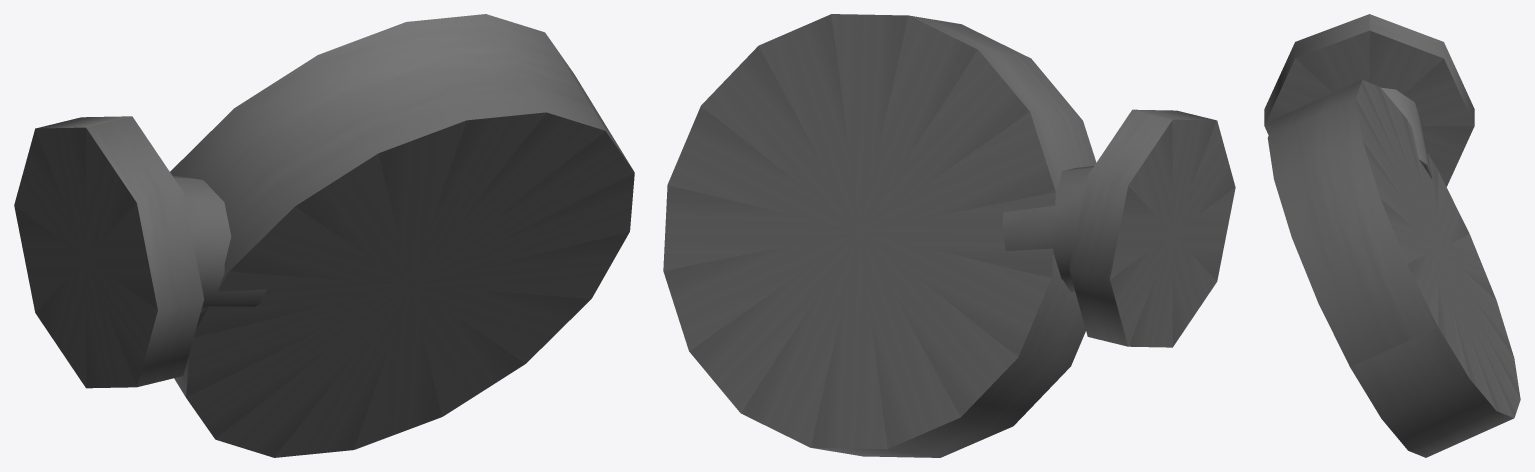
File: mastarmcurve_6x2_c2_west.obj
The picture shows the model from 3 angles, left to right: view 1: azimuth 30°, elevation 25°; view 2: azimuth 150°, elevation 25°; view 3: azimuth 270°, elevation 25°; orthographic projection. The views are drawn at different scales.
Visible parts, largest first — view 1: mastarm_6x2_c2_west; view 2: mastarm_6x2_c2_west; view 3: mastarm_6x2_c2_west.
Boxes of the visible parts, x1,y1,x2,y2 form: mastarm_6x2_c2_west: (14, 14, 634, 457); mastarm_6x2_c2_west: (663, 14, 1235, 457); mastarm_6x2_c2_west: (1264, 14, 1520, 457).
Bounding box in the file's own units: 0.852 × 0.7153 × 0.4873.
